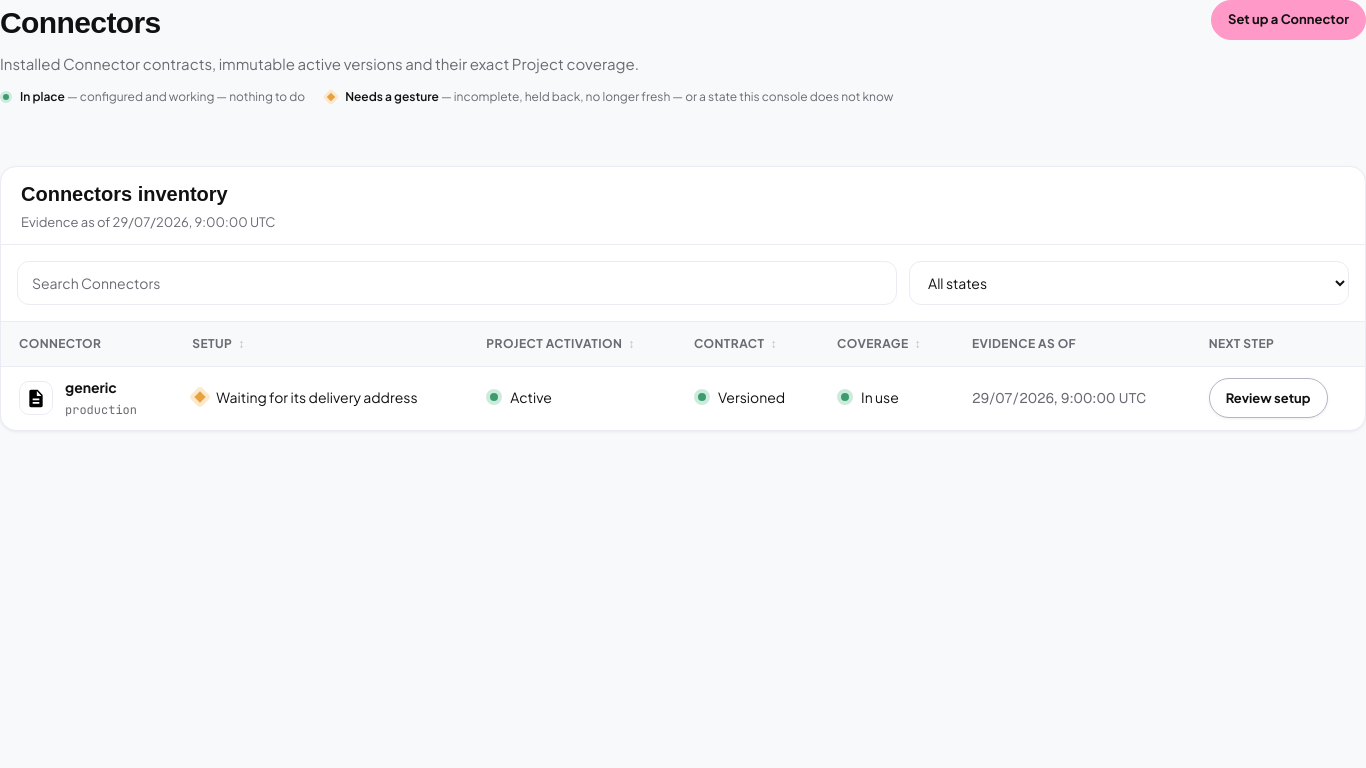
Test case: names the delivery-domain step instead of offering a verify that would be refused
Click the button "Review setup" at coordinates (1268, 398), box [1209,378,1328,418]
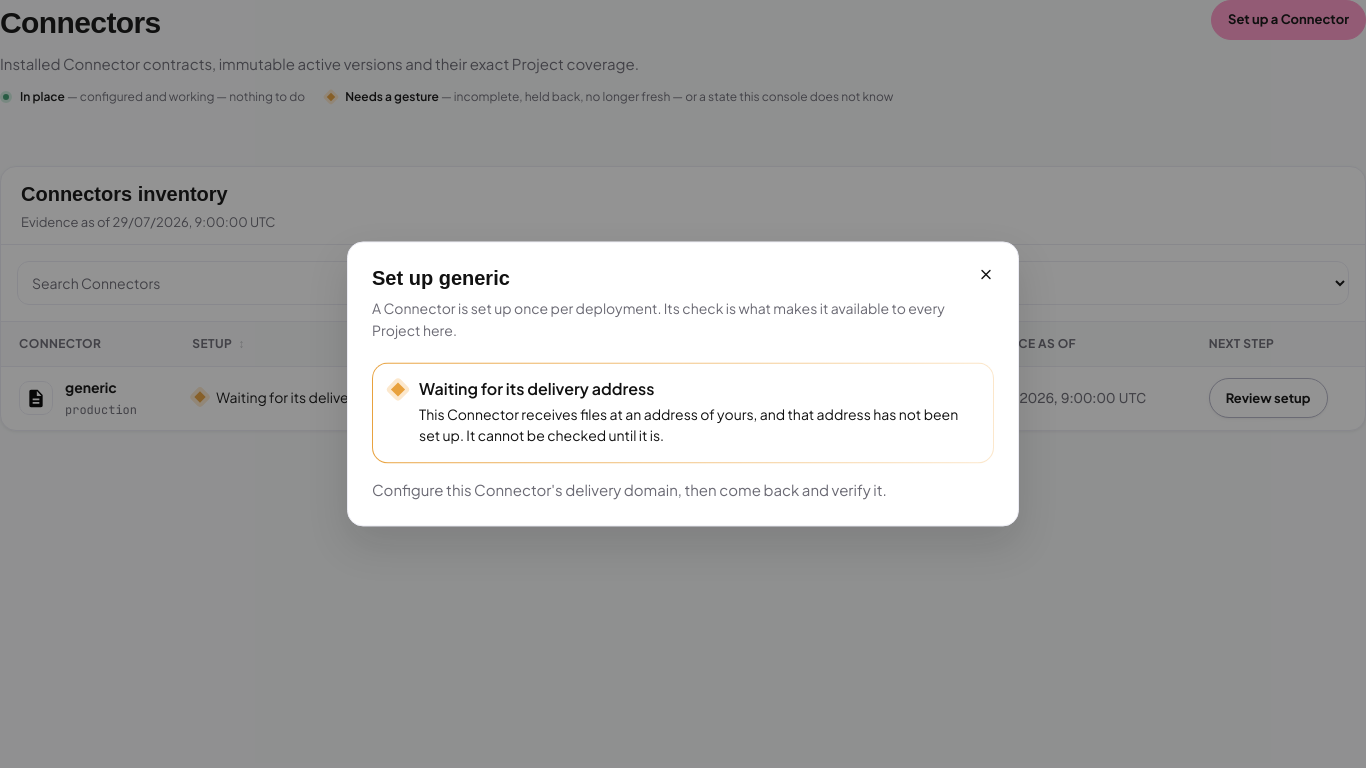
Now the text "Configure this Connector's delivery domain" is shown, box [372,480,887,499]
